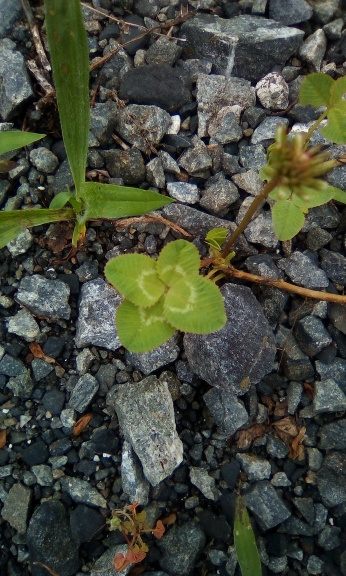4leaf: (103, 239, 227, 354)
